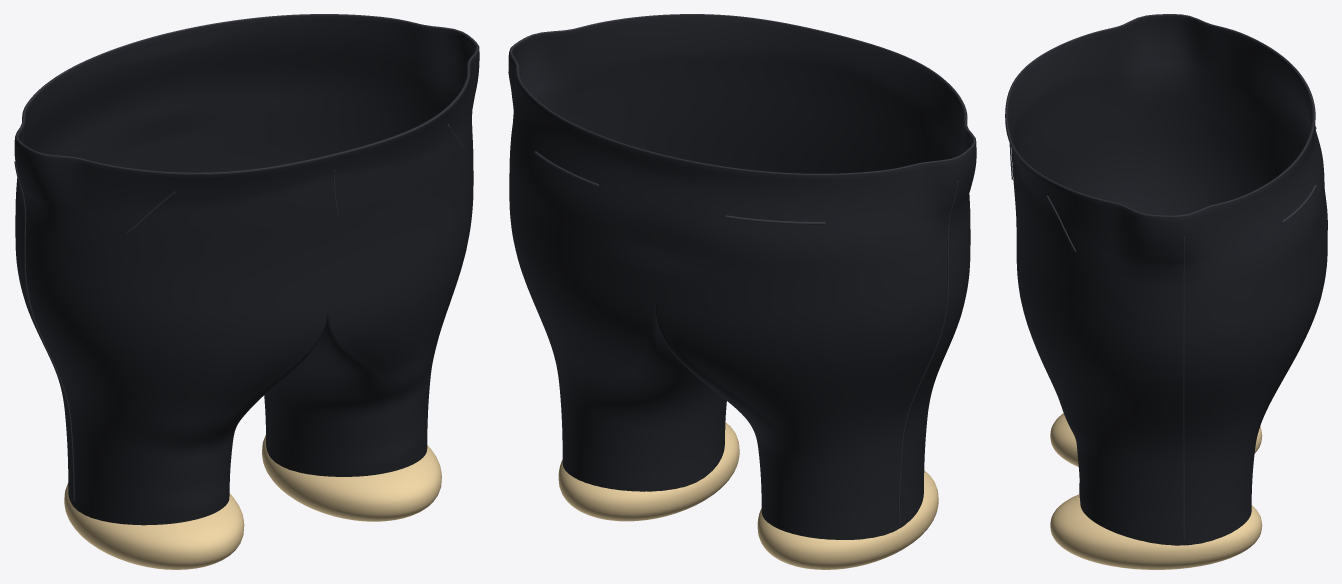
Rendered from Feminine-pants-bottom.glb.
3 views of the same model, side by side, from view 1: azimuth 30°, elevation 25°; view 2: azimuth 150°, elevation 25°; view 3: azimuth 270°, elevation 25° (orthographic). The views are drawn at different scales.
Parts seen in each view (by area): view 1: Bottom / continuous pants187, Skin / pants foot187 -1, Skin / pants foot187 1, Bottom / pants hem187 0 export, Bottom / side seam187 -1 export; view 2: Bottom / continuous pants187, Skin / pants foot187 1, Skin / pants foot187 -1, Bottom / pants hem187 0 export, Bottom / side seam187 -1 export; view 3: Bottom / continuous pants187, Skin / pants foot187 1, Bottom / pants hem187 0 export, Skin / pants foot187 -1, Bottom / side seam187 1 export.
Part boxes in pixels (bbox=[...]): Bottom / continuous pants187: bbox=[14, 15, 479, 525]; Skin / pants foot187 -1: bbox=[64, 483, 244, 569]; Skin / pants foot187 1: bbox=[262, 435, 441, 521]; Bottom / pants hem187 0 export: bbox=[16, 14, 478, 174]; Bottom / side seam187 -1 export: bbox=[14, 161, 74, 501]; Bottom / continuous pants187: bbox=[508, 15, 976, 539]; Skin / pants foot187 1: bbox=[558, 422, 739, 521]; Skin / pants foot187 -1: bbox=[757, 470, 938, 569]; Bottom / pants hem187 0 export: bbox=[510, 14, 975, 174]; Bottom / side seam187 -1 export: bbox=[898, 181, 958, 522]; Bottom / continuous pants187: bbox=[1005, 15, 1327, 545]; Skin / pants foot187 1: bbox=[1050, 494, 1262, 569]; Bottom / pants hem187 0 export: bbox=[1005, 14, 1314, 216]; Skin / pants foot187 -1: bbox=[1050, 413, 1262, 466]; Bottom / side seam187 1 export: bbox=[1183, 237, 1184, 539].
Bounding box in the file's own units: 0.631 × 0.571 × 0.4231.
